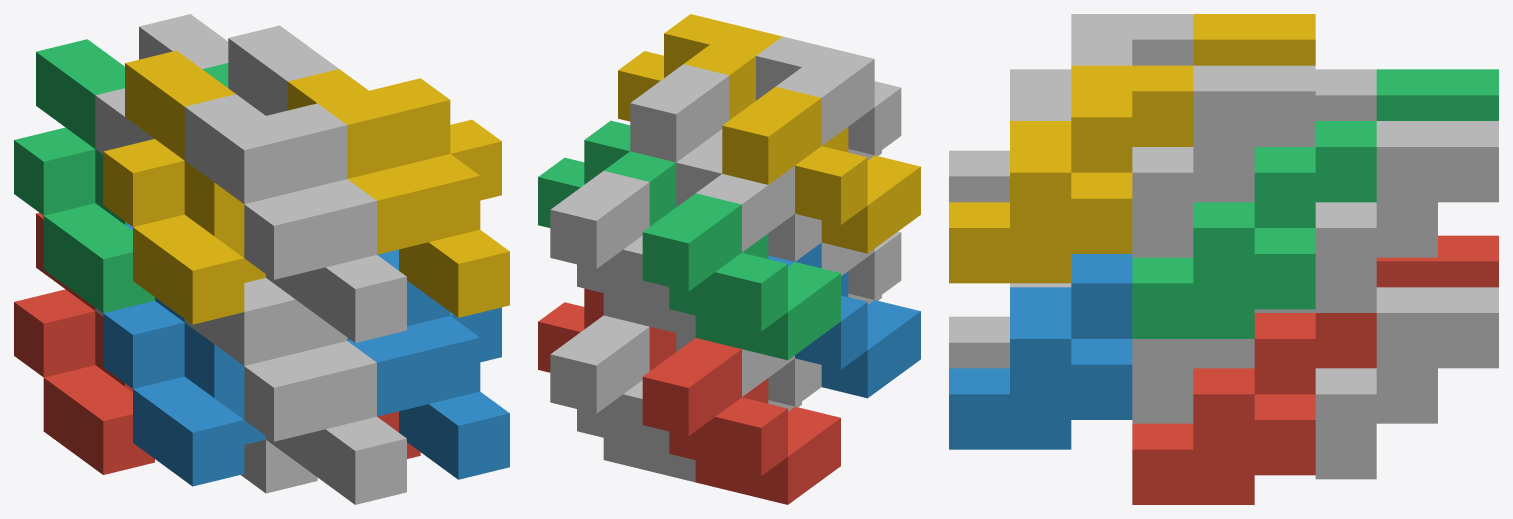
The model's file is tiling.obj.
3 views of the same model, side by side, from view 1: azimuth 30°, elevation 25°; view 2: azimuth 150°, elevation 25°; view 3: azimuth 270°, elevation 25° (orthographic). The views are drawn at different scales.
Parts seen in each view (by area): view 1: copy_2_domain_4, copy_2_domain_8, copy_1_domain_4, copy_2_domain_2, copy_1_domain_3, copy_1_domain_2, copy_2_domain_6, copy_1_domain_1, copy_1_domain_8, copy_1_domain_7, copy_2_domain_1, copy_2_domain_3; view 2: copy_1_domain_1, copy_1_domain_3, copy_1_domain_4, copy_1_domain_5, copy_1_domain_7, copy_2_domain_4, copy_1_domain_2, copy_2_domain_8, copy_2_domain_3, copy_1_domain_8, copy_2_domain_7, copy_2_domain_5 (+2 smaller); view 3: copy_2_domain_8, copy_2_domain_7, copy_2_domain_5, copy_2_domain_6, copy_1_domain_8, copy_1_domain_5, copy_1_domain_7, copy_2_domain_4, copy_1_domain_6, copy_1_domain_3, copy_1_domain_4, copy_1_domain_1 (+2 smaller).
Boxes of the visible parts, bbox=[...] form: copy_2_domain_4: bbox=[184, 94, 406, 342]; copy_2_domain_8: bbox=[287, 69, 509, 317]; copy_1_domain_4: bbox=[103, 50, 265, 324]; copy_2_domain_2: bbox=[184, 278, 406, 504]; copy_1_domain_3: bbox=[14, 39, 154, 313]; copy_1_domain_2: bbox=[103, 224, 265, 486]; copy_2_domain_6: bbox=[347, 249, 509, 479]; copy_1_domain_1: bbox=[14, 212, 154, 474]; copy_1_domain_8: bbox=[228, 25, 338, 298]; copy_1_domain_7: bbox=[139, 14, 228, 69]; copy_2_domain_1: bbox=[95, 307, 317, 493]; copy_2_domain_3: bbox=[95, 88, 154, 154]; copy_1_domain_1: bbox=[642, 338, 840, 504]; copy_1_domain_3: bbox=[642, 193, 840, 360]; copy_1_domain_4: bbox=[722, 86, 920, 253]; copy_1_domain_5: bbox=[550, 315, 695, 482]; copy_1_domain_7: bbox=[550, 171, 695, 337]; copy_2_domain_4: bbox=[756, 36, 901, 159]; copy_1_domain_2: bbox=[768, 243, 920, 398]; copy_2_domain_8: bbox=[618, 14, 782, 121]; copy_2_domain_3: bbox=[676, 143, 821, 261]; copy_1_domain_8: bbox=[630, 64, 729, 162]; copy_2_domain_7: bbox=[538, 120, 676, 227]; copy_2_domain_5: bbox=[538, 288, 676, 372]; copy_2_domain_8: bbox=[949, 65, 1193, 283]; copy_2_domain_7: bbox=[1132, 121, 1376, 338]; copy_2_domain_5: bbox=[1132, 313, 1376, 504]; copy_2_domain_6: bbox=[949, 254, 1132, 449]; copy_1_domain_8: bbox=[1132, 65, 1315, 257]; copy_1_domain_5: bbox=[1315, 287, 1498, 479]; copy_1_domain_7: bbox=[1315, 121, 1498, 312]; copy_2_domain_4: bbox=[949, 14, 1193, 202]; copy_1_domain_6: bbox=[1132, 309, 1315, 423]; copy_1_domain_3: bbox=[1376, 69, 1498, 120]; copy_1_domain_4: bbox=[1193, 14, 1315, 65]; copy_1_domain_1: bbox=[1376, 235, 1498, 287].
Size of the model in its own units: 6 by 7 by 9.
